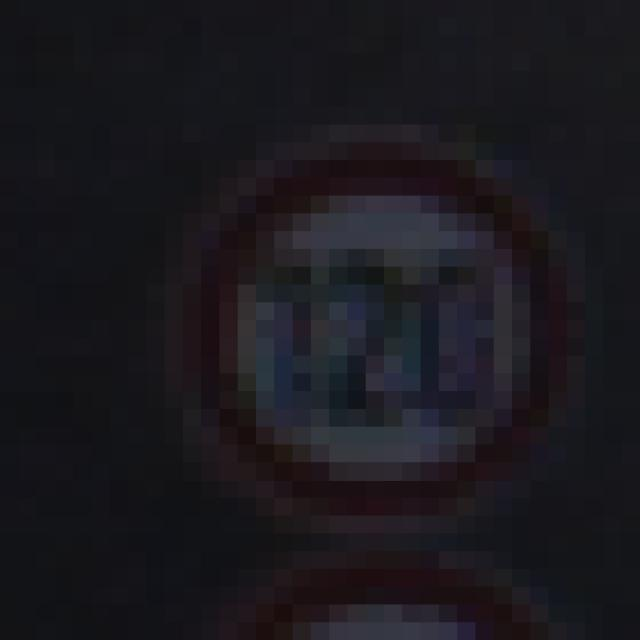Ograniczenie predkosci do 120: (181, 145, 573, 514)
